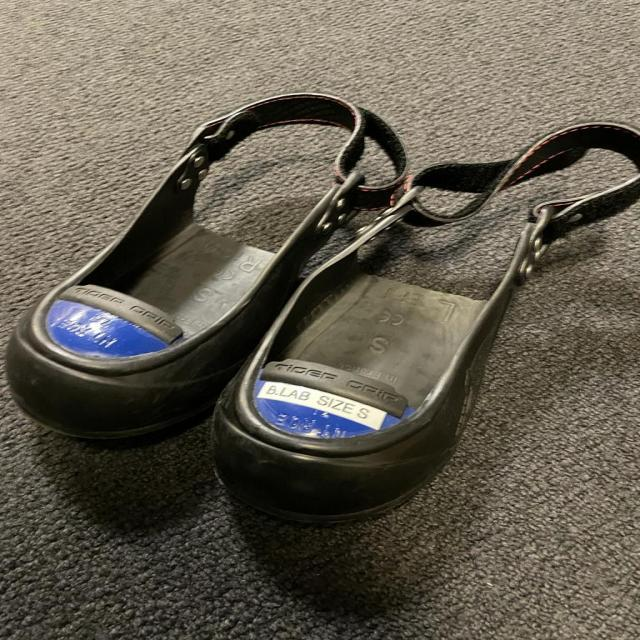shoes: (204, 151, 616, 492), (15, 93, 375, 464)
